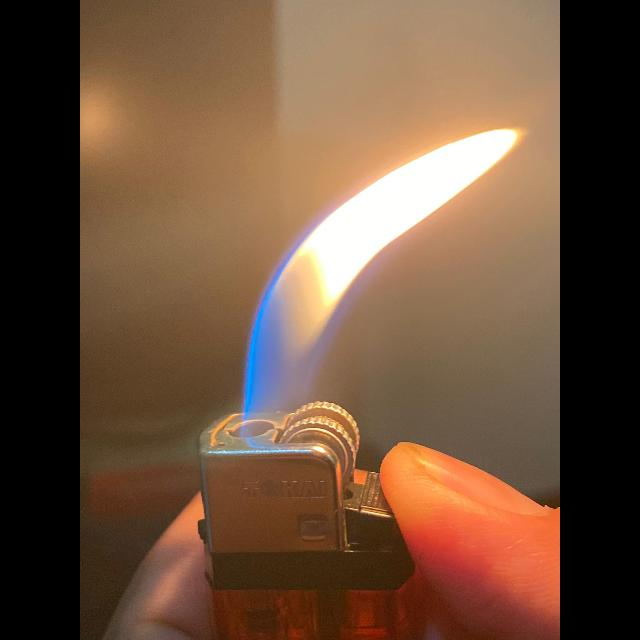fire: (245, 130, 520, 412)
